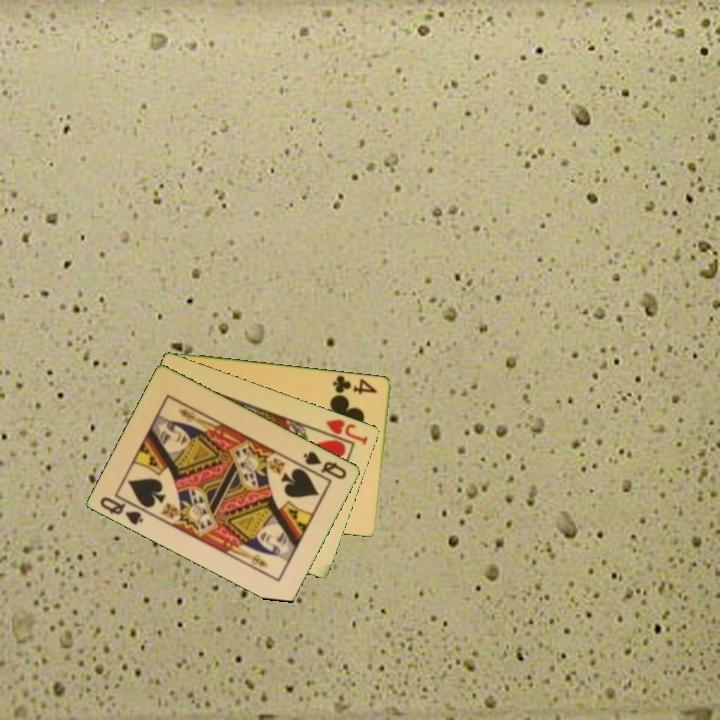4c: (330, 372, 380, 397)
Jh: (314, 415, 371, 448)
Qs: (300, 447, 350, 482), (97, 493, 147, 528)
